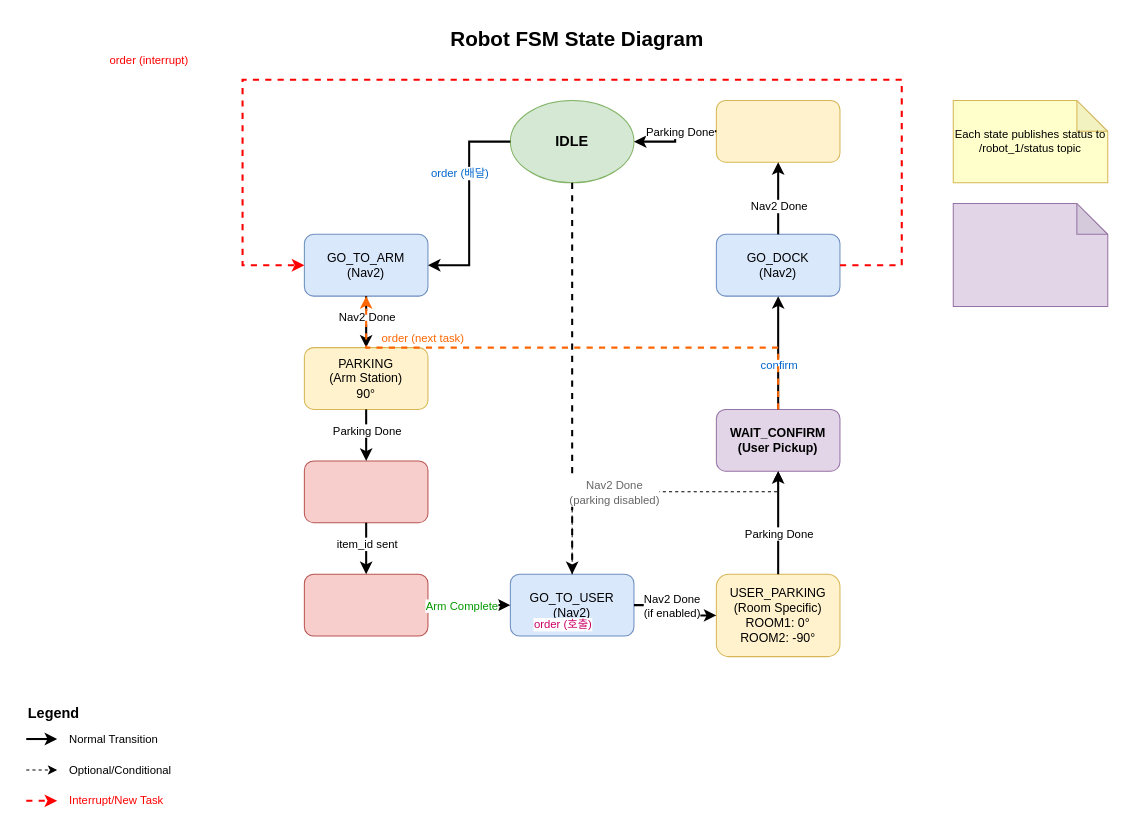
The diagram is 1126 pixels wide and 828 high, and some of its shapes have lost their labels. The centre of each missing label's shape, as x and y in pixels:
DOCK_PARKING (Charging Station) 0°: point (777, 130)
Parking Angles: • Arm: 90° (π/2) • ROOM1: 0° • ROOM2: -90° (-π/2) • Dock: 0°: point (1030, 254)
PICK (Send item_id): point (365, 491)
WAIT_ARM (Robot Arm): point (365, 604)
